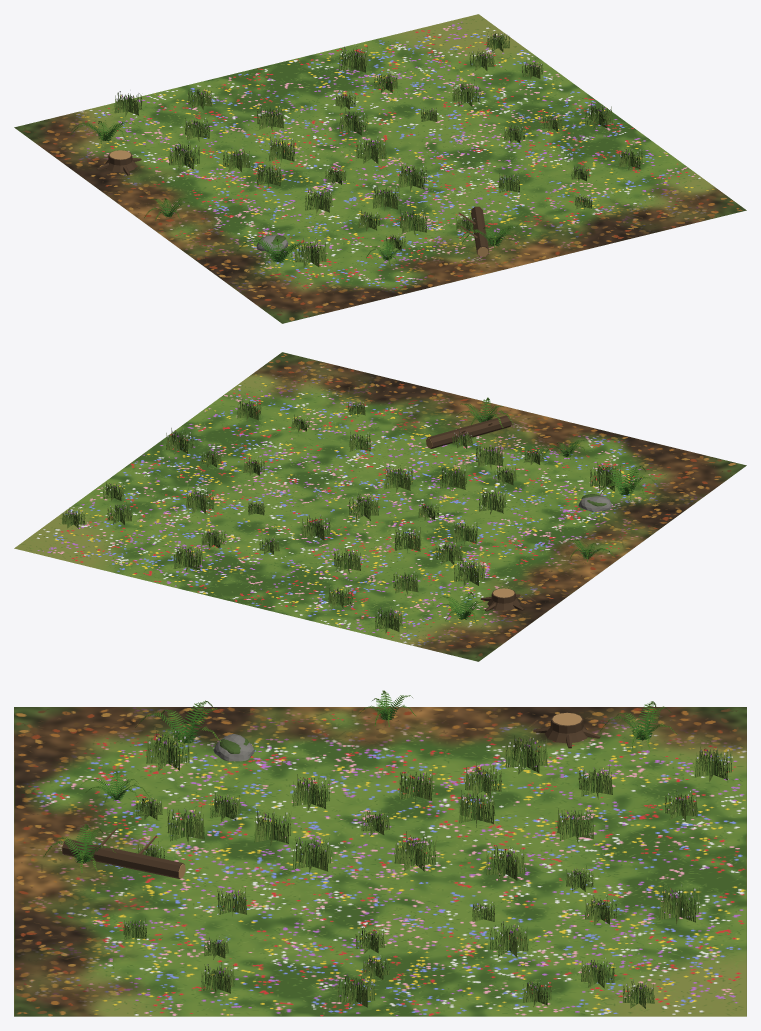
Rendered from les_paseka.glb.
3 views of the same model, one above another, from view 1: azimuth 30°, elevation 25°; view 2: azimuth 150°, elevation 25°; view 3: azimuth 270°, elevation 25° (orthographic). The views are drawn at different scales.
Parts seen in each view (by area): view 1: zem, klada_0, parez_0, trava_22, kapradi_04, trava_20, trava_30, trava_32, trava_02, trava_15, trava_05, trava_23; view 2: zem, klada_0, kapradi_04, parez_0, trava_20, trava_30, kapradi_02, trava_22, trava_32, trava_02, trava_24, trava_05 (+4 smaller); view 3: zem, klada_0, kapradi_04, parez_0, trava_20, trava_22, trava_30, trava_32, trava_02, trava_23, kapradi_02, trava_05 (+22 smaller).
Part boxes in pixels (x1=…): zem: x1=14, y1=14, x2=746, y2=323; klada_0: x1=458, y1=206, x2=488, y2=256; parez_0: x1=97, y1=150, x2=141, y2=175; trava_22: x1=294, y1=238, x2=326, y2=267; kapradi_04: x1=237, y1=238, x2=320, y2=265; trava_20: x1=168, y1=141, x2=199, y2=170; trava_30: x1=339, y1=45, x2=368, y2=74; trava_32: x1=356, y1=136, x2=386, y2=163; trava_02: x1=398, y1=163, x2=426, y2=190; trava_15: x1=452, y1=80, x2=480, y2=106; trava_05: x1=339, y1=108, x2=367, y2=135; trava_23: x1=400, y1=209, x2=427, y2=235; zem: x1=14, y1=352, x2=746, y2=661; klada_0: x1=426, y1=415, x2=511, y2=448; kapradi_04: x1=600, y1=465, x2=657, y2=501; parez_0: x1=480, y1=588, x2=524, y2=611; trava_20: x1=454, y1=557, x2=485, y2=586; trava_30: x1=173, y1=545, x2=202, y2=572; kapradi_02: x1=437, y1=592, x2=489, y2=624; trava_22: x1=590, y1=462, x2=621, y2=491; trava_32: x1=348, y1=494, x2=379, y2=520; trava_02: x1=384, y1=465, x2=412, y2=492; trava_24: x1=440, y1=464, x2=467, y2=490; trava_05: x1=301, y1=514, x2=330, y2=541; zem: x1=14, y1=707, x2=746, y2=1016; klada_0: x1=62, y1=827, x2=185, y2=878; kapradi_04: x1=135, y1=700, x2=226, y2=753; parez_0: x1=533, y1=712, x2=600, y2=748; trava_20: x1=505, y1=734, x2=547, y2=774; trava_22: x1=146, y1=730, x2=189, y2=770; trava_30: x1=659, y1=884, x2=699, y2=924; trava_32: x1=394, y1=831, x2=436, y2=871; trava_02: x1=292, y1=837, x2=331, y2=873; trava_23: x1=167, y1=806, x2=204, y2=843; kapradi_02: x1=600, y1=701, x2=677, y2=750; trava_05: x1=486, y1=845, x2=525, y2=881.
Bounding box in the file's own units: 14.93 × 0.73 × 14.8.
Materials: 4 (4 with a texture image).
